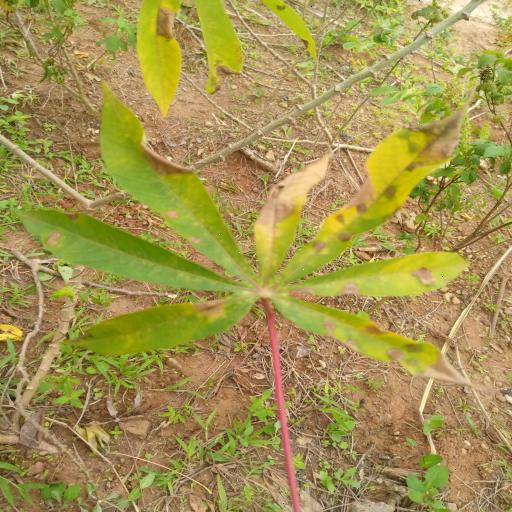Cassava_Brown_Leaf_Spot: (2, 76, 493, 390)
